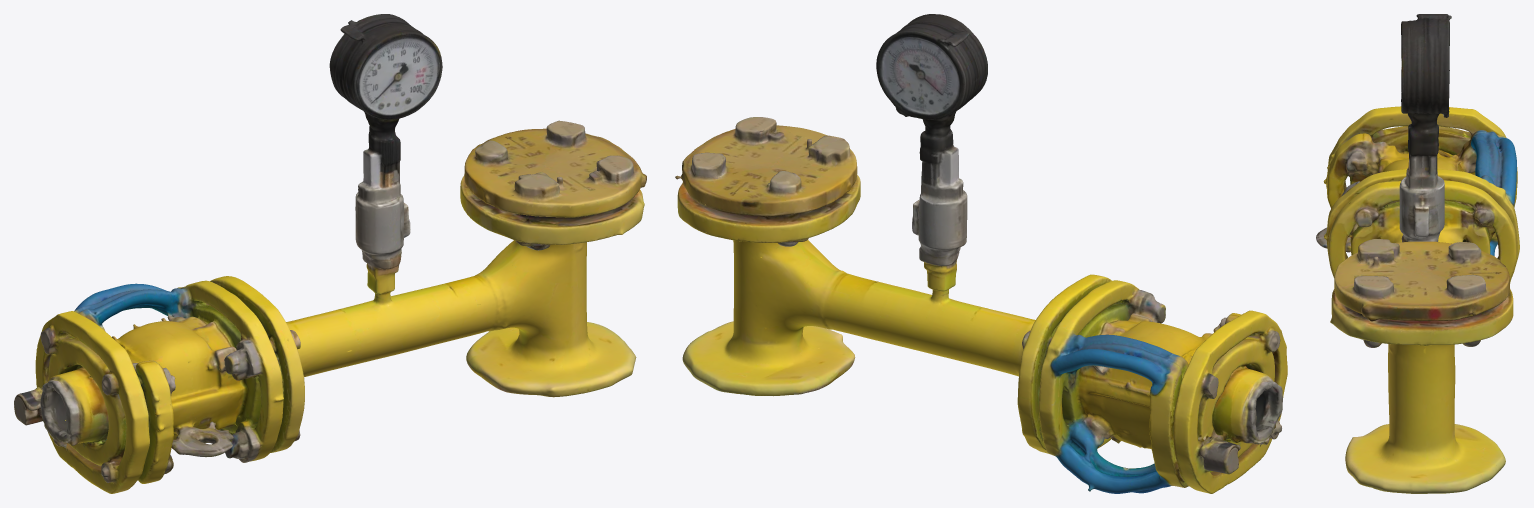
Rendered from pipe.glb.
The picture shows the model from 3 angles, left to right: view 1: azimuth 30°, elevation 25°; view 2: azimuth 150°, elevation 25°; view 3: azimuth 270°, elevation 25°; orthographic projection. The views are drawn at different scales.
Size of the model in its own units: 1.99 by 1.31 by 0.6495.
1 material, 1 textured.
